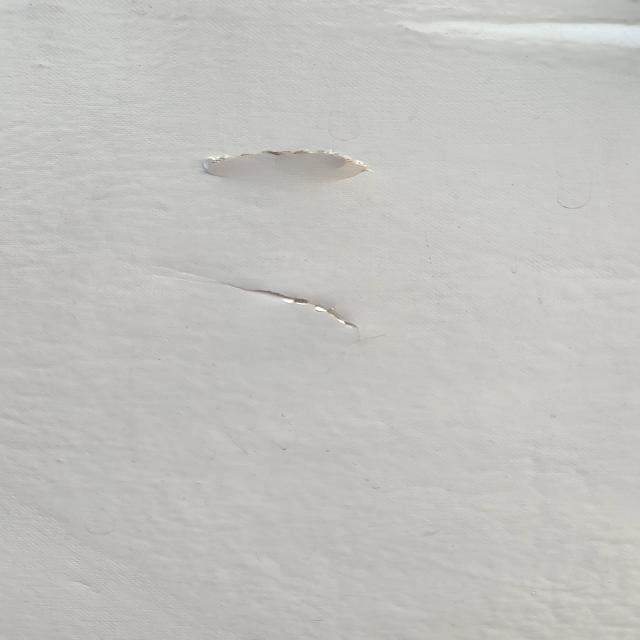Dents or Deformation: (370, 3, 640, 56)
Scratches: (201, 277, 410, 333), (139, 141, 419, 182)
